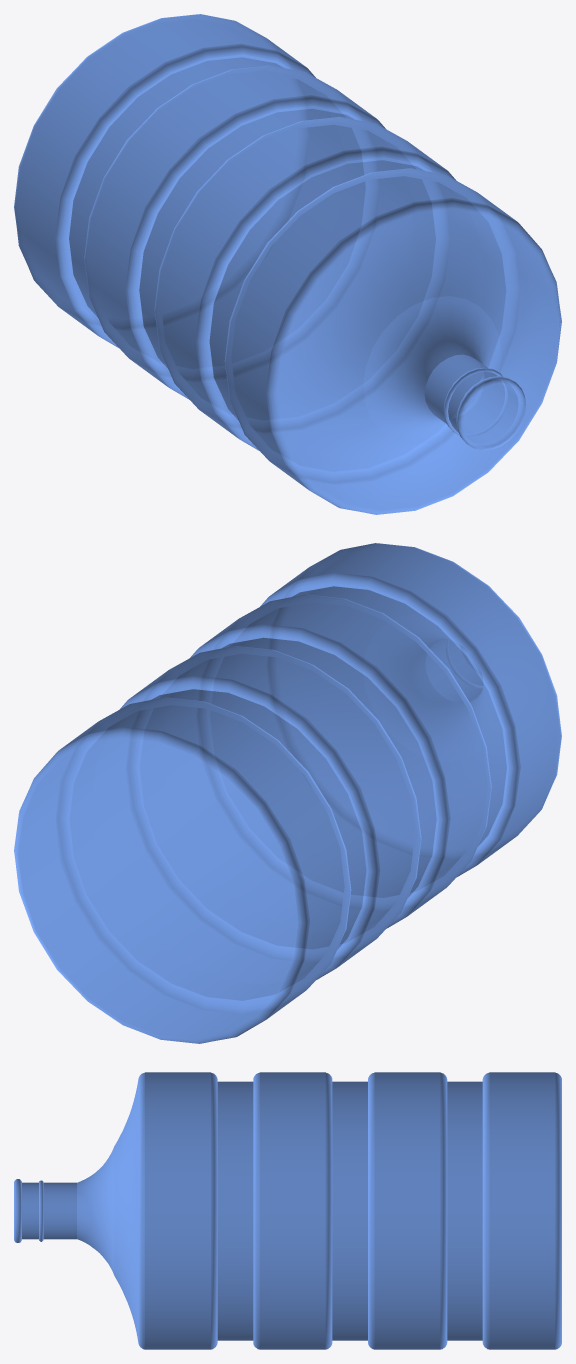
File: model_align.obj
3 renders of one model, top to bottom at view 1: azimuth 30°, elevation 25°; view 2: azimuth 150°, elevation 25°; view 3: azimuth 270°, elevation 25°, orthographic. The views are drawn at different scales.
Parts seen in each view (by area): view 1: mesh1_mesh1-geometry; view 2: mesh1_mesh1-geometry; view 3: mesh1_mesh1-geometry.
Part boxes in pixels (x1,y1,x2,y2): mesh1_mesh1-geometry: (14,14,561,514); mesh1_mesh1-geometry: (14,543,561,1043); mesh1_mesh1-geometry: (14,1072,561,1349).
Size of the model in its own units: 0.1197 by 0.1197 by 0.2358.
